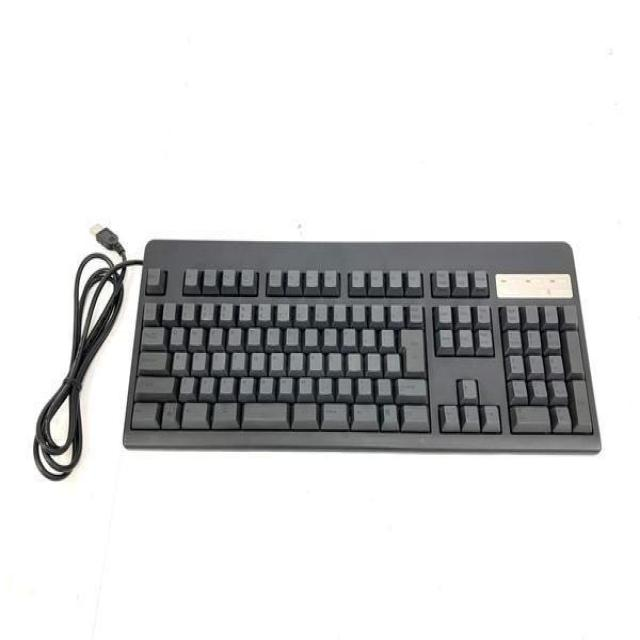keyboard: (126, 237, 604, 458)
